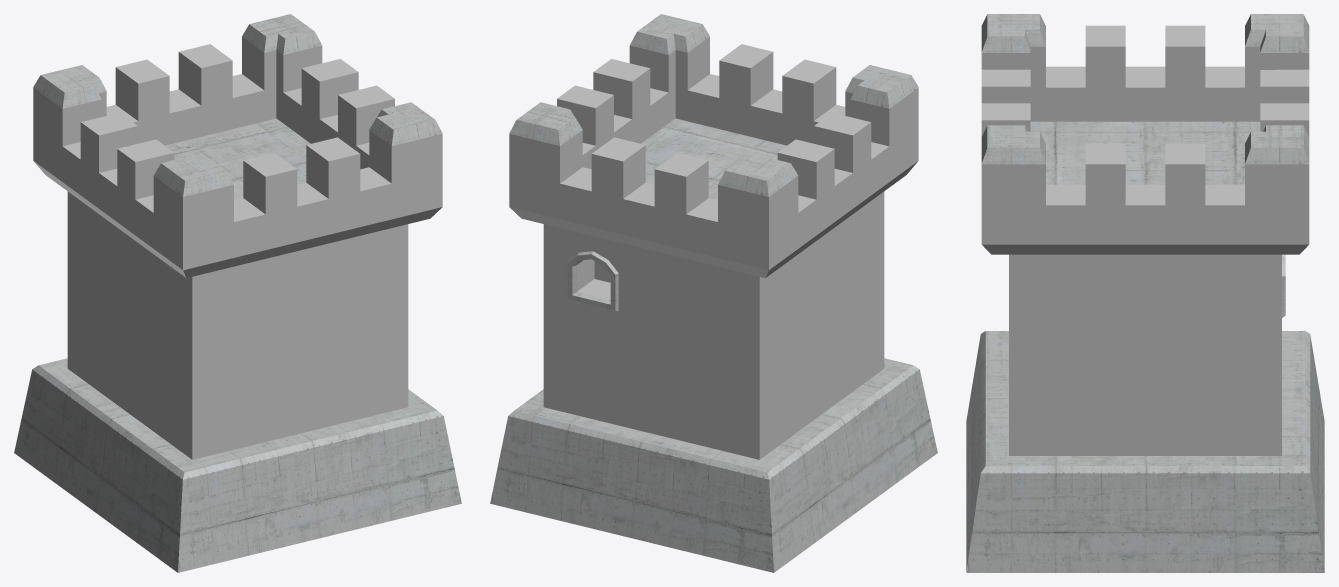
The model's file is tower_wall.FBX.
3 renders of one model, left to right at view 1: azimuth 30°, elevation 25°; view 2: azimuth 150°, elevation 25°; view 3: azimuth 270°, elevation 25°, orthographic. The views are drawn at different scales.
Visible parts, largest first — view 1: tower_wall; view 2: tower_wall; view 3: tower_wall.
Boxes of the visible parts, x1=… form: tower_wall: x1=14, y1=14, x2=461, y2=572; tower_wall: x1=490, y1=14, x2=937, y2=572; tower_wall: x1=966, y1=14, x2=1324, y2=572.
Bounding box in the file's own units: 15 × 19.23 × 15.
